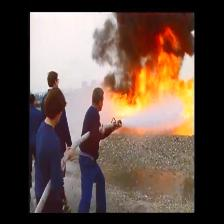fire: (142, 69, 194, 101), (157, 33, 178, 66)
smoke: (97, 11, 151, 66), (155, 13, 191, 30), (181, 32, 195, 59)
